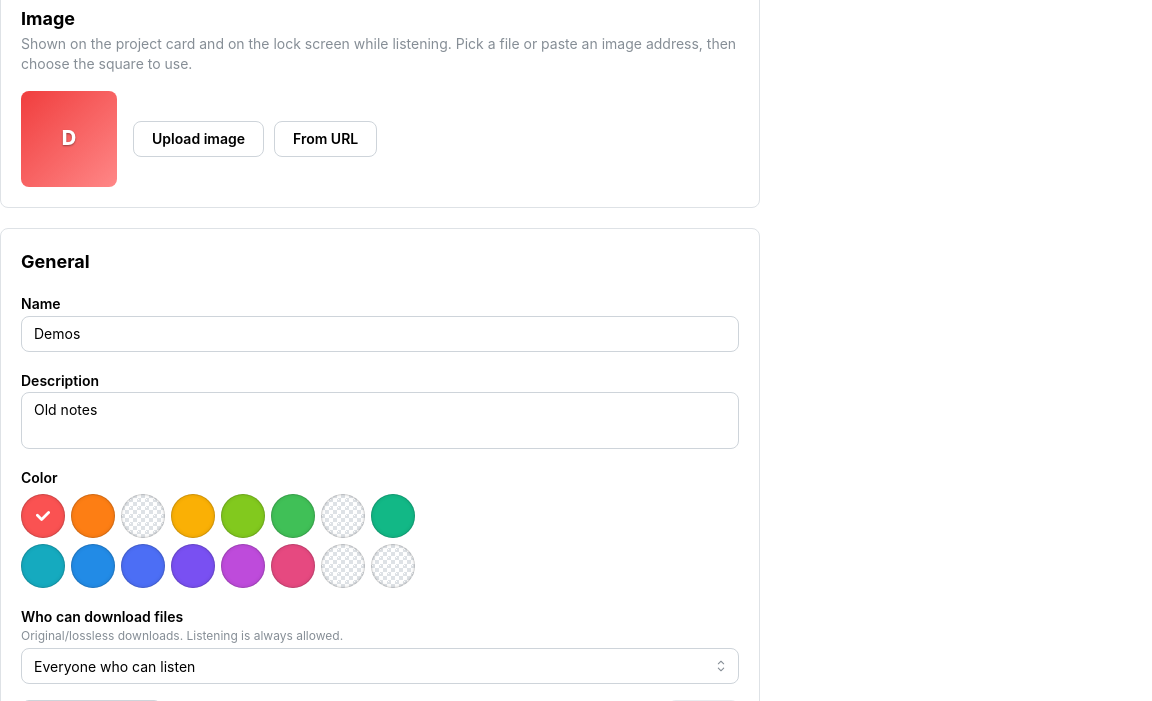
Test: ProjectSettings general section › archives without dropping unsaved edits
Replace the text in the field labelled "Name" with "Live set" at [380, 334], box [21,316,739,352]
(page scrolled)
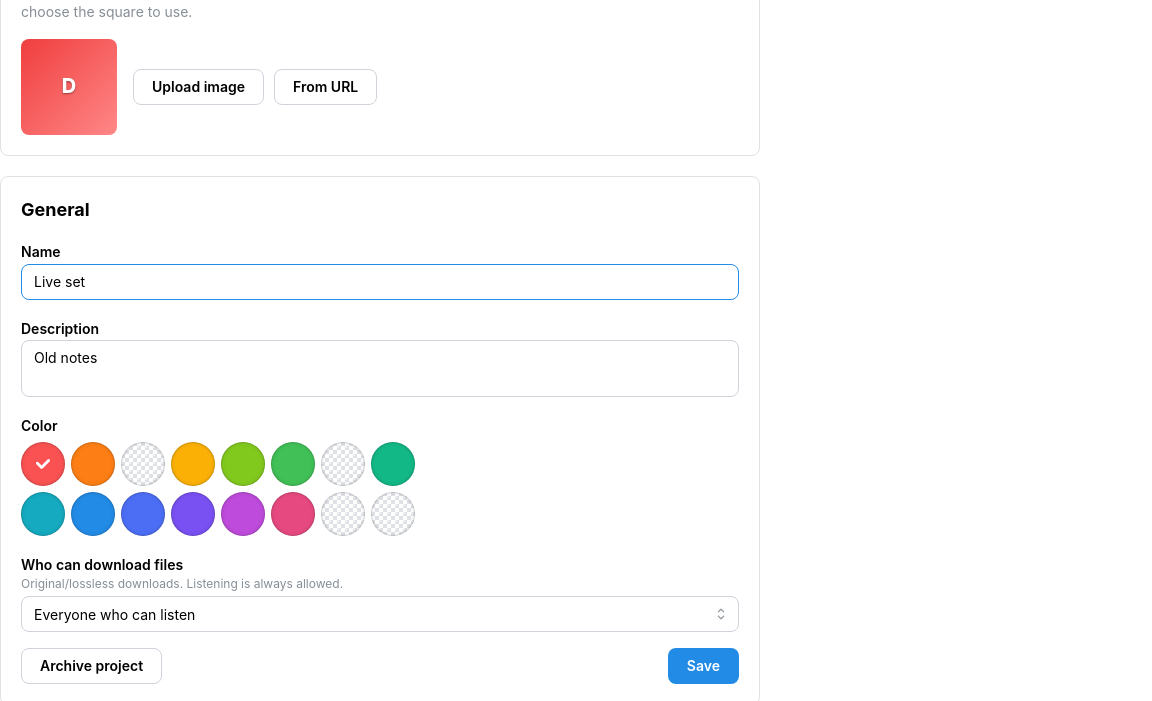
Click the button with test id "toggle-archive" at [92, 666], box [21,648,162,684]
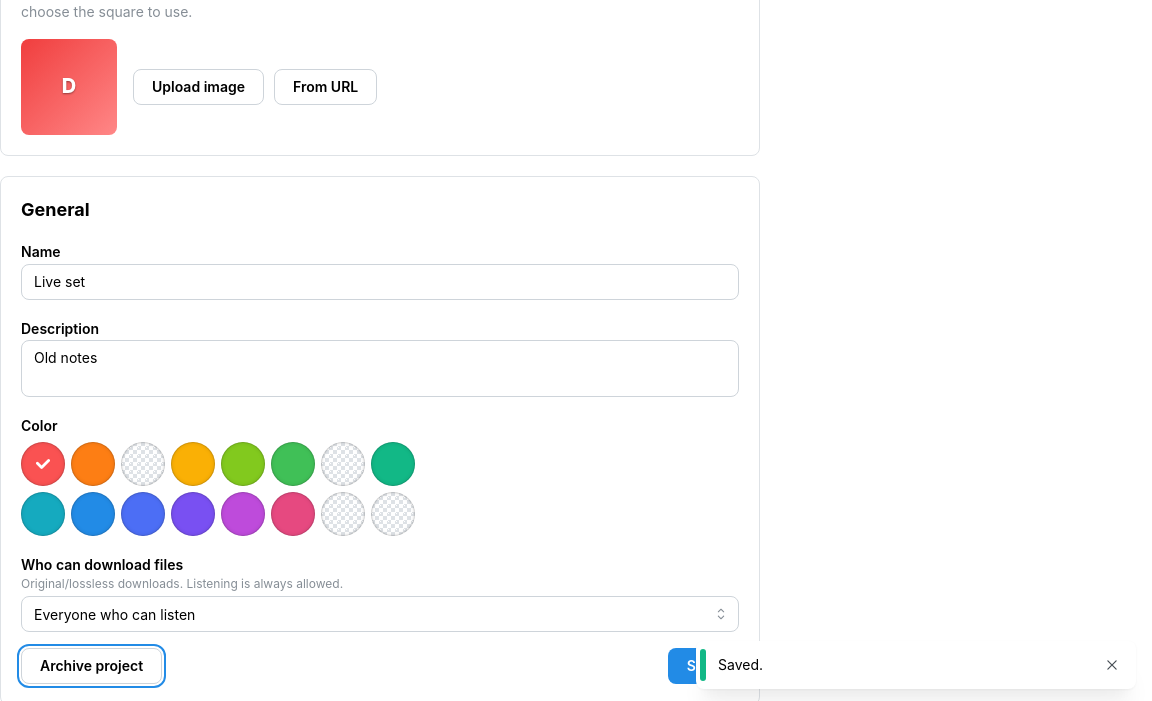
Now the button "Save" is enabled, box [668,648,739,684]
Now the text "Saved." is shown, box [718,656,763,673]
